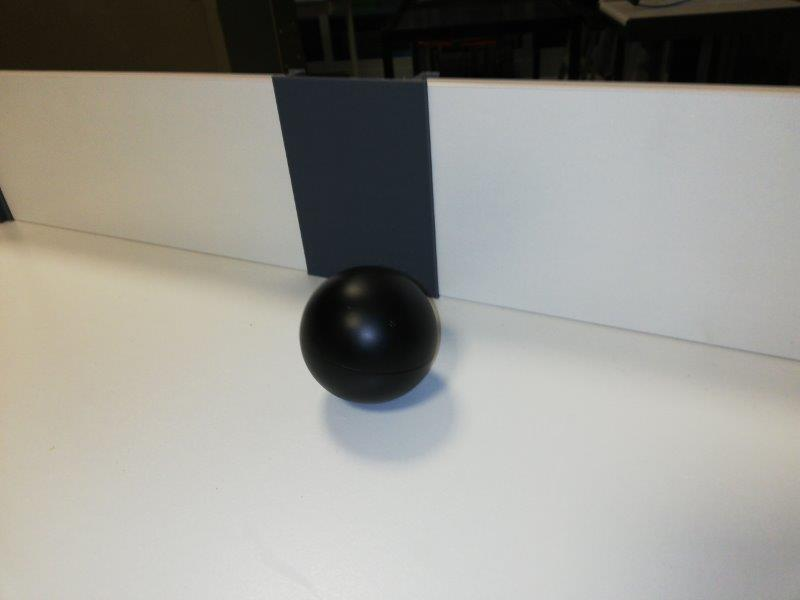nera: (299, 264, 440, 403)
